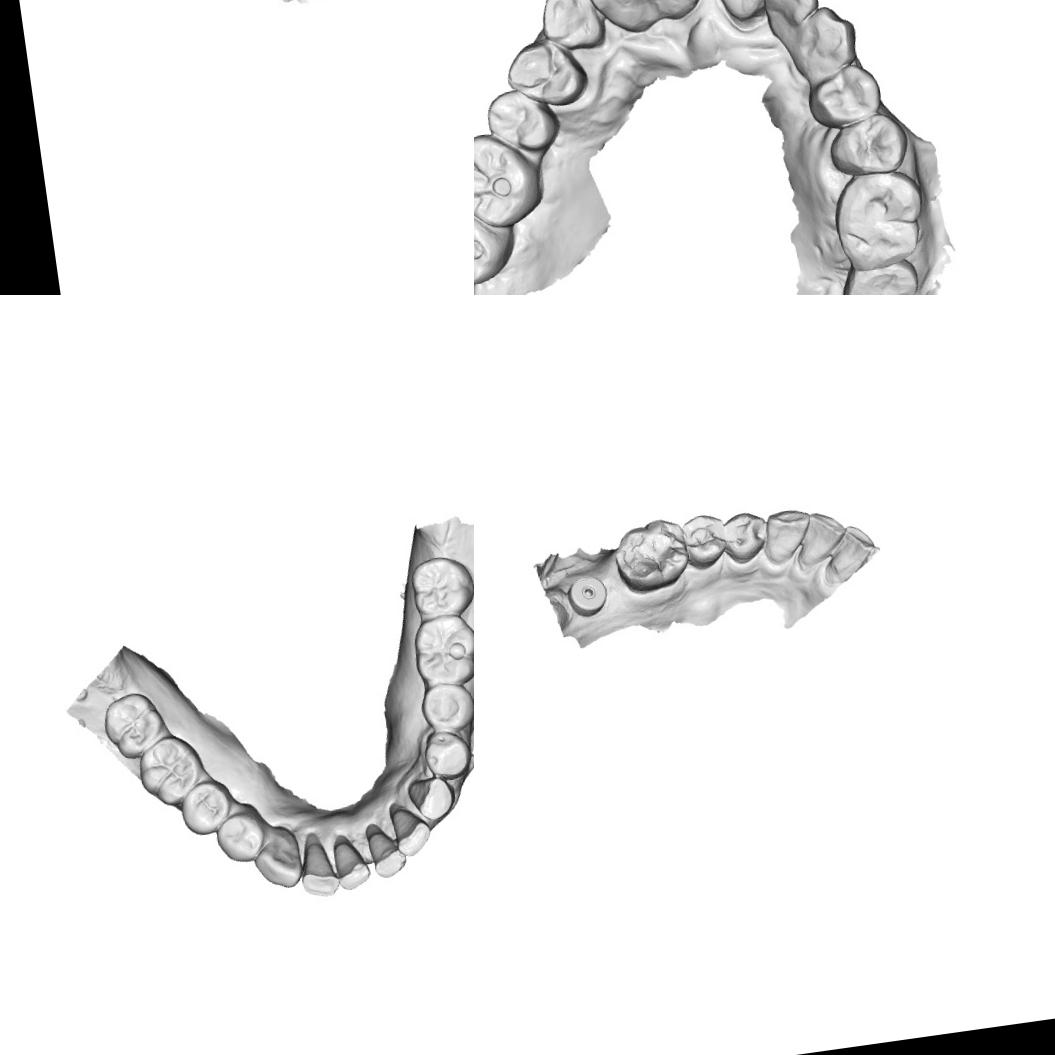canine: (786, 2, 863, 90), (248, 824, 306, 894), (534, 0, 606, 55), (760, 506, 816, 566), (404, 773, 458, 826)
implant: (564, 572, 611, 620)
incisor: (819, 520, 880, 584), (792, 507, 852, 569), (386, 799, 435, 861), (295, 840, 340, 902), (758, 0, 825, 41), (580, 0, 650, 38), (364, 825, 410, 882), (330, 835, 372, 893), (702, 0, 783, 28), (631, 0, 714, 24)
molar: (826, 165, 929, 274), (474, 126, 549, 233), (608, 514, 693, 598), (133, 731, 210, 813), (98, 688, 171, 764), (407, 609, 474, 691), (405, 551, 474, 623), (474, 195, 519, 292), (836, 258, 927, 295)
premolar: (502, 34, 591, 113), (823, 110, 910, 183), (802, 60, 889, 132), (481, 84, 561, 158), (176, 775, 238, 840), (210, 809, 272, 868), (415, 679, 474, 737), (680, 510, 732, 572), (418, 727, 474, 783), (721, 508, 771, 566)
